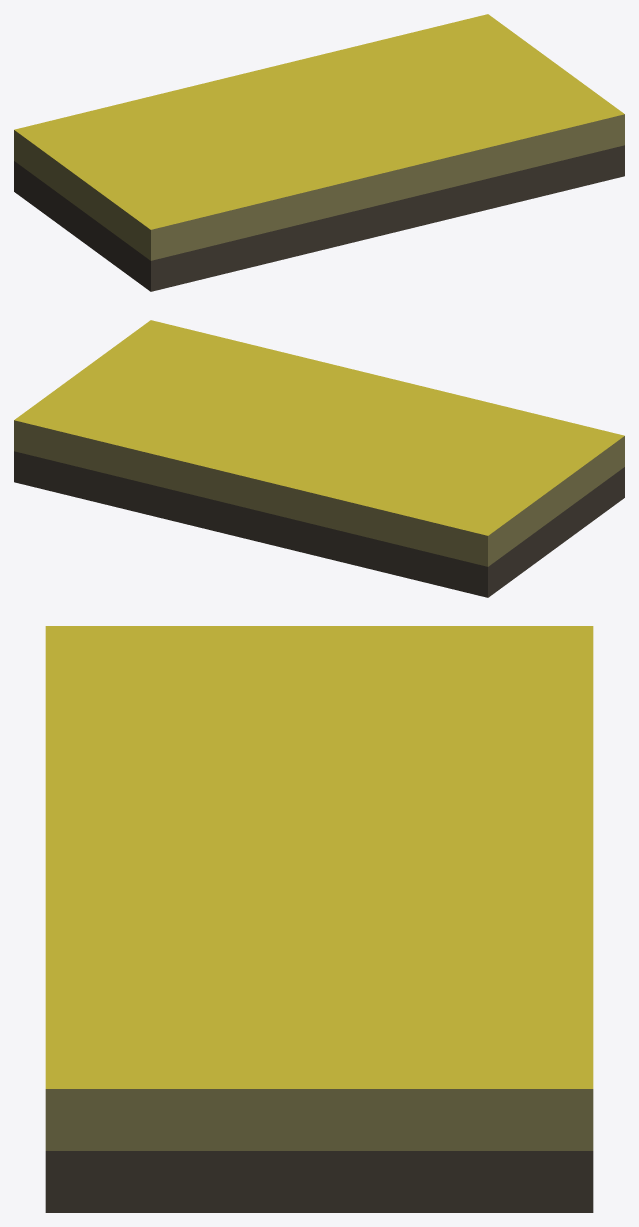
Rendered from tile2_1 full.fbx.
3 renders of one model, top to bottom at view 1: azimuth 30°, elevation 25°; view 2: azimuth 150°, elevation 25°; view 3: azimuth 270°, elevation 25°, orthographic. The views are drawn at different scales.
Visible parts, largest first — view 1: Cube.003; view 2: Cube.003; view 3: Cube.003.
Boxes of the visible parts, x1,y1,x2,y2 form: Cube.003: (14, 14, 624, 291); Cube.003: (14, 320, 624, 597); Cube.003: (45, 626, 593, 1212).
Size of the model in its own units: 400 by 50 by 200.
1 material, 1 textured.
